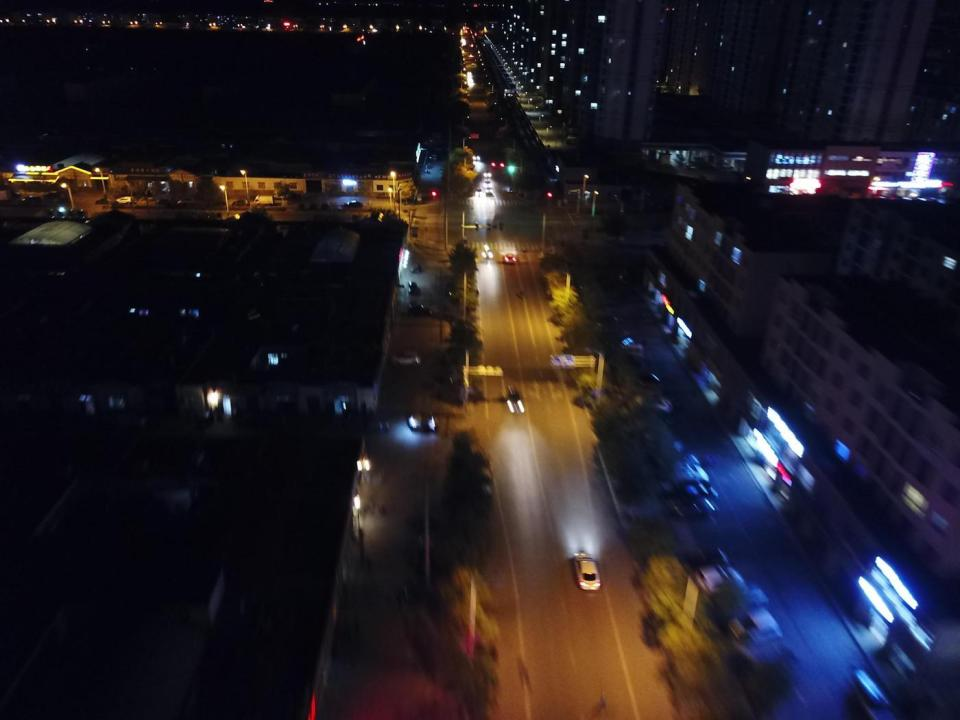car: (852, 665, 897, 720), (714, 588, 768, 622), (731, 614, 779, 647), (692, 565, 745, 594), (663, 502, 717, 525), (663, 483, 719, 505), (686, 549, 730, 576), (573, 550, 601, 590), (664, 463, 708, 484), (661, 454, 700, 475), (636, 394, 671, 415), (646, 441, 682, 460), (633, 374, 661, 390), (507, 388, 524, 414), (392, 351, 419, 367), (616, 336, 642, 349), (407, 304, 432, 317), (596, 314, 619, 328), (621, 199, 643, 212), (20, 195, 40, 204), (620, 274, 638, 284), (116, 195, 134, 204), (624, 349, 642, 358), (654, 198, 670, 208), (408, 281, 418, 295), (482, 245, 492, 258), (345, 200, 361, 208), (504, 253, 516, 263), (95, 198, 111, 205), (233, 200, 249, 207), (378, 192, 393, 199), (178, 199, 192, 206), (156, 198, 170, 204), (474, 187, 481, 195), (473, 153, 480, 160), (676, 153, 684, 159), (485, 179, 491, 186), (688, 162, 695, 168), (711, 155, 717, 162), (516, 90, 521, 98), (568, 134, 576, 139), (486, 188, 492, 194), (723, 164, 734, 167), (468, 81, 474, 86), (484, 171, 490, 176), (146, 190, 151, 195), (470, 42, 474, 48), (469, 54, 474, 58), (467, 72, 472, 76), (464, 29, 468, 33), (468, 76, 472, 80), (472, 61, 475, 65)
truck: (254, 195, 273, 205)
van: (430, 156, 437, 160), (441, 167, 445, 173)
